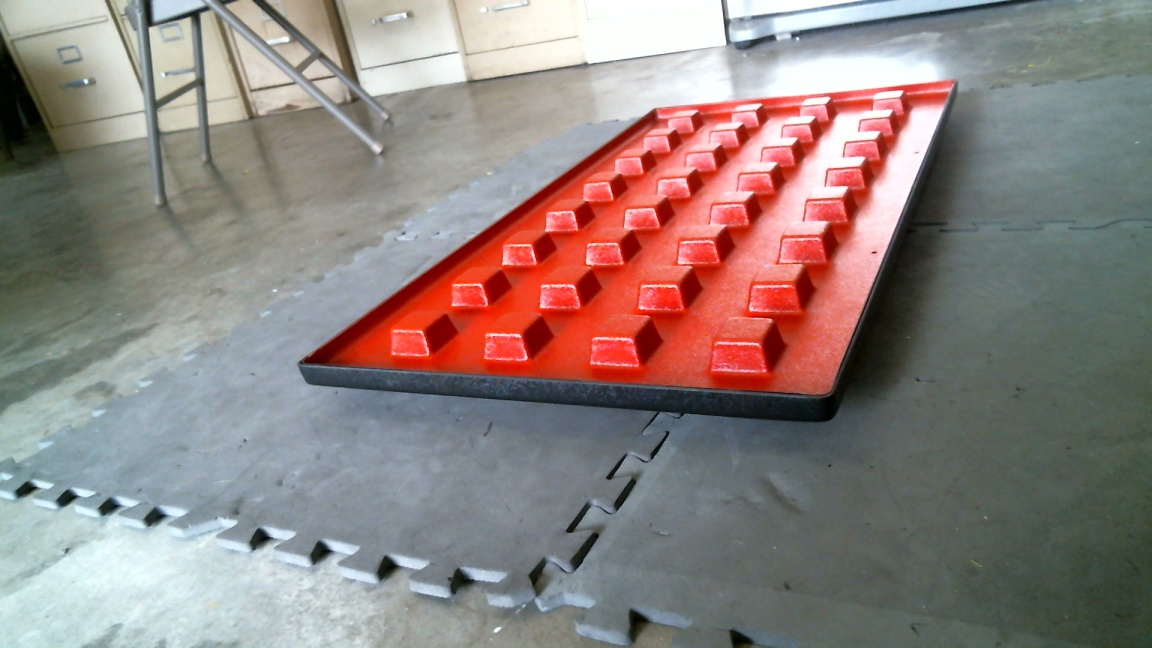red_foundation: (297, 76, 958, 427)
